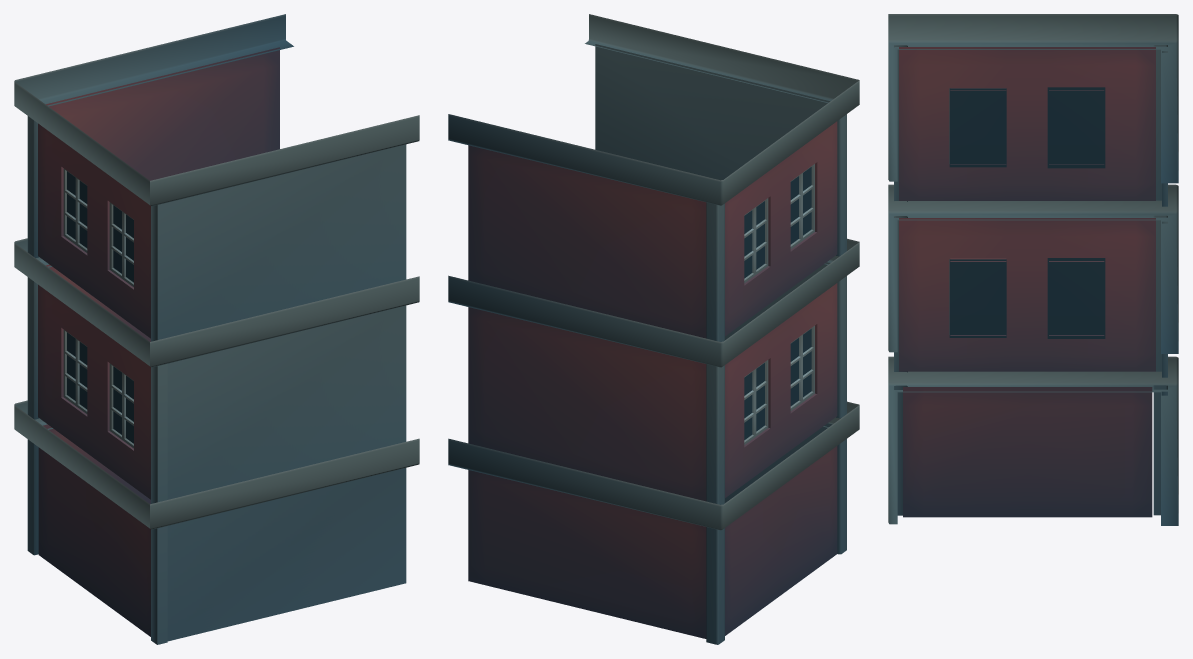
File: BackgroundBuilding01_new.fbx
3 renders of one model, left to right at view 1: azimuth 30°, elevation 25°; view 2: azimuth 150°, elevation 25°; view 3: azimuth 270°, elevation 25°, orthographic. The views are drawn at different scales.
Visible parts, largest first — view 1: BackgroundBuilding01; view 2: BackgroundBuilding01; view 3: BackgroundBuilding01.
Boxes of the visible parts, x1=… form: BackgroundBuilding01: x1=14, y1=14, x2=419, y2=644; BackgroundBuilding01: x1=448, y1=14, x2=859, y2=644; BackgroundBuilding01: x1=888, y1=14, x2=1178, y2=525.
Size of the model in its own units: 1060 by 1738 by 921.
